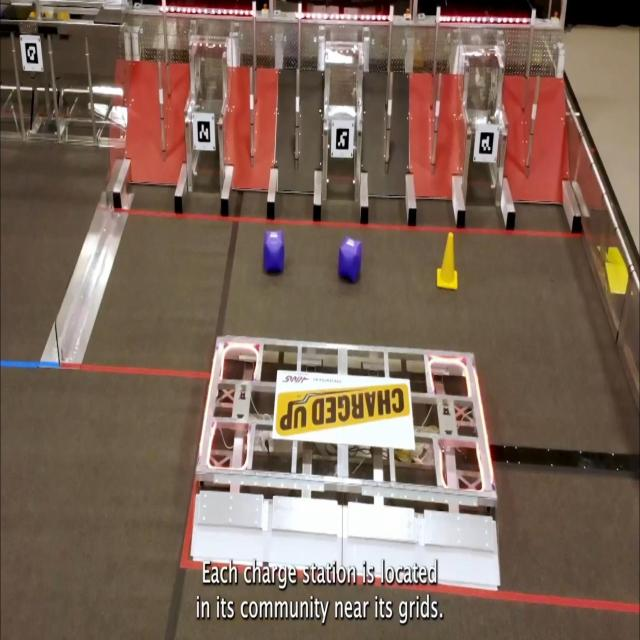frc_cone: (440, 232, 460, 293)
frc_cube: (264, 231, 283, 273), (338, 243, 360, 276)
